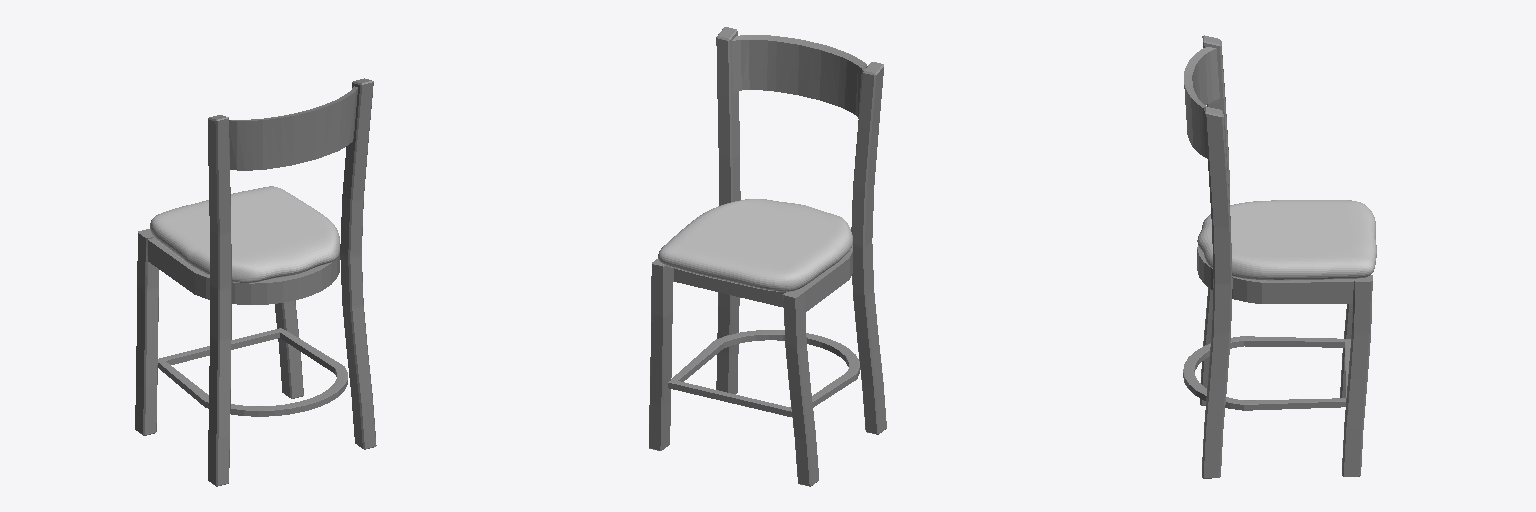
Rendered from Chair.obj.
The picture shows the model from 3 angles: view 1: azimuth 30°, elevation 25°; view 2: azimuth 150°, elevation 25°; view 3: azimuth 270°, elevation 25°; orthographic projection.
Parts seen in each view (by area): view 1: Cube.004_Cube.004; view 2: Cube.004_Cube.004; view 3: Cube.004_Cube.004.
Part boxes in pixels (x1,y1,x2,y2): Cube.004_Cube.004: (135, 78, 376, 486); Cube.004_Cube.004: (649, 27, 886, 486); Cube.004_Cube.004: (1183, 35, 1376, 478).
Bounding box in the file's own units: 0.4744 × 1.01 × 0.4834.